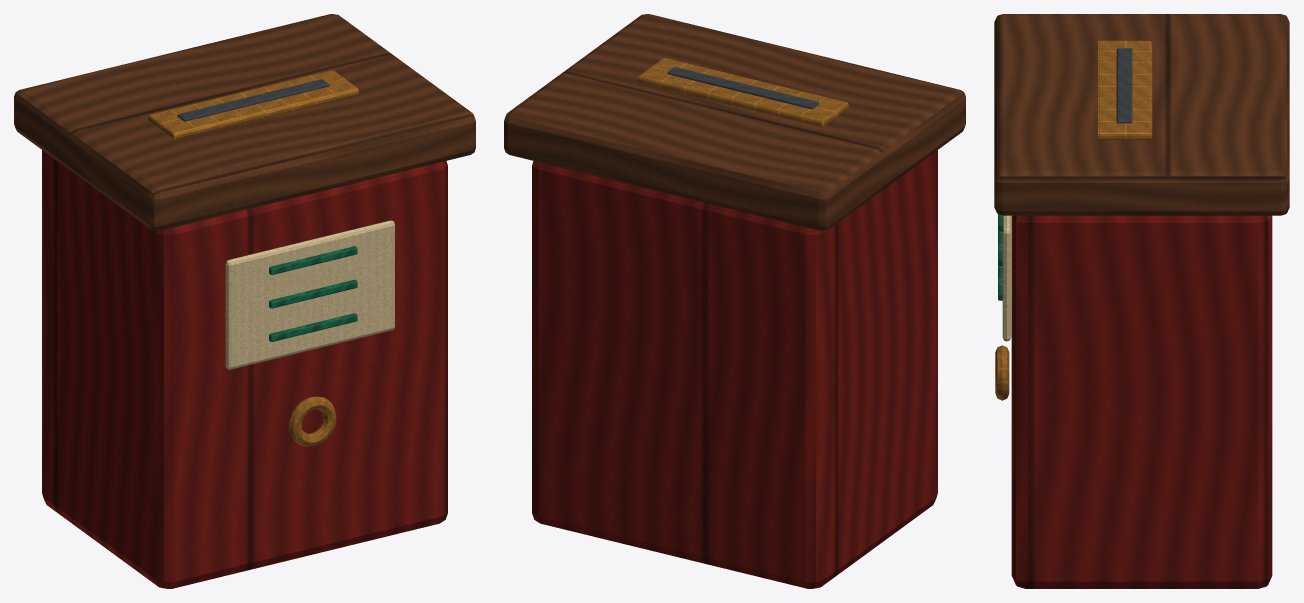
The model's file is petition_box.glb.
The picture shows the model from 3 angles, left to right: view 1: azimuth 30°, elevation 25°; view 2: azimuth 150°, elevation 25°; view 3: azimuth 270°, elevation 25°; orthographic projection. The views are drawn at different scales.
Parts seen in each view (by area): view 1: petition_box_Lacquer, petition_box_Walnut, petition_box_Paper, petition_box_Brass, petition_box_Jade, petition_box_Iron; view 2: petition_box_Lacquer, petition_box_Walnut, petition_box_Brass, petition_box_Iron; view 3: petition_box_Lacquer, petition_box_Walnut, petition_box_Brass, petition_box_Iron, petition_box_Paper, petition_box_Jade.
Boxes of the visible parts, box(x1,y1,x2,y2) form: petition_box_Lacquer: box(42, 150, 447, 588); petition_box_Walnut: box(14, 14, 475, 230); petition_box_Paper: box(225, 220, 394, 369); petition_box_Brass: box(148, 70, 358, 446); petition_box_Jade: box(269, 246, 357, 341); petition_box_Iron: box(177, 79, 329, 121); petition_box_Lacquer: box(532, 150, 937, 588); petition_box_Walnut: box(504, 14, 965, 230); petition_box_Brass: box(638, 58, 848, 126); petition_box_Iron: box(667, 67, 819, 109); petition_box_Lacquer: box(1011, 215, 1272, 588); petition_box_Walnut: box(994, 14, 1289, 215); petition_box_Brass: box(995, 40, 1152, 400); petition_box_Iron: box(1116, 48, 1132, 123); petition_box_Paper: box(1002, 215, 1011, 341); petition_box_Jade: box(998, 214, 1002, 300).
Size of the model in its own units: 1.12 by 1.39 by 0.85.
Materials: 6 (6 with a texture image).
